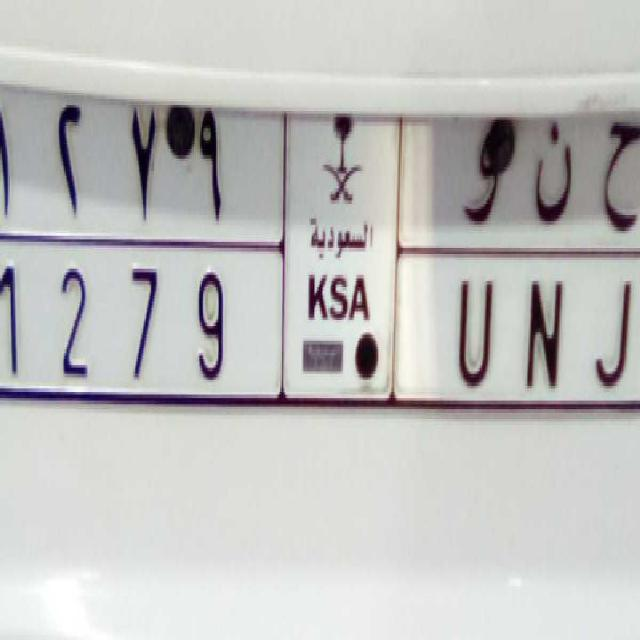license_plate: (1, 224, 640, 428)
